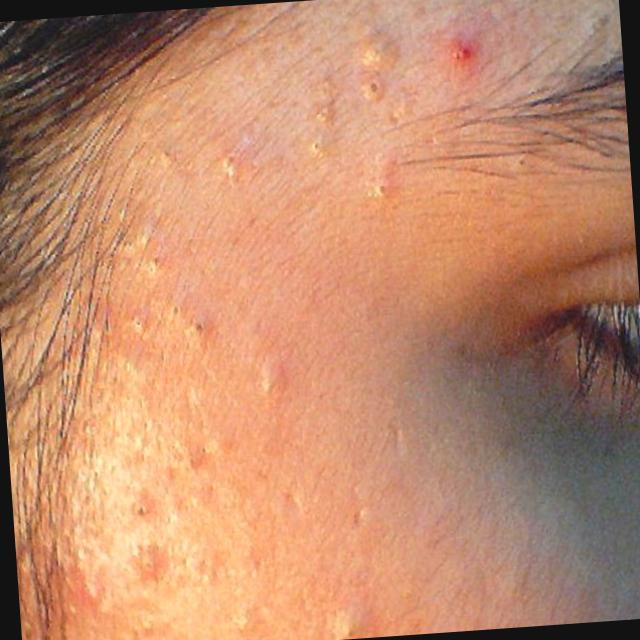fungal: (75, 249, 303, 640), (147, 3, 504, 248)
